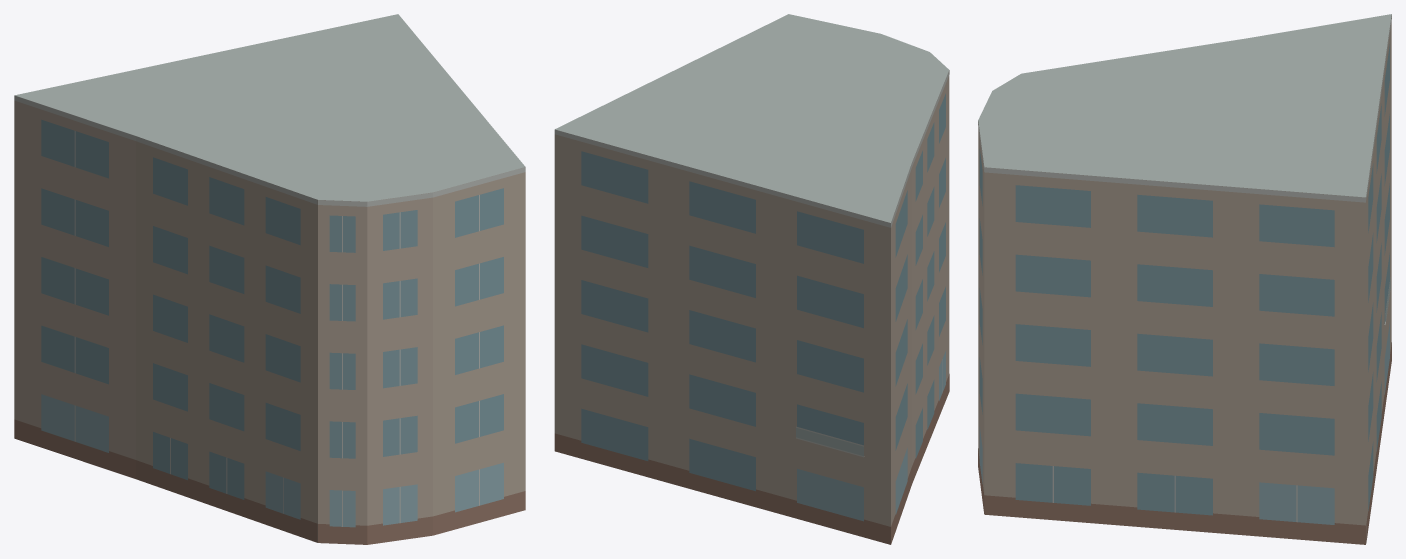
The model's file is survey-upis-32667885.glb.
3 renders of one model, left to right at view 1: azimuth 30°, elevation 25°; view 2: azimuth 150°, elevation 25°; view 3: azimuth 270°, elevation 25°, orthographic. The views are drawn at different scales.
Visible parts, largest first — view 1: survey-upis-32667885.tmp; view 2: survey-upis-32667885.tmp; view 3: survey-upis-32667885.tmp.
Part boxes in pixels (left/top/right/bottom): survey-upis-32667885.tmp: left=14, top=14, right=525, bottom=544; survey-upis-32667885.tmp: left=554, top=14, right=949, bottom=544; survey-upis-32667885.tmp: left=978, top=14, right=1391, bottom=544.
Size of the model in its own units: 18.47 by 16.3 by 17.59.
